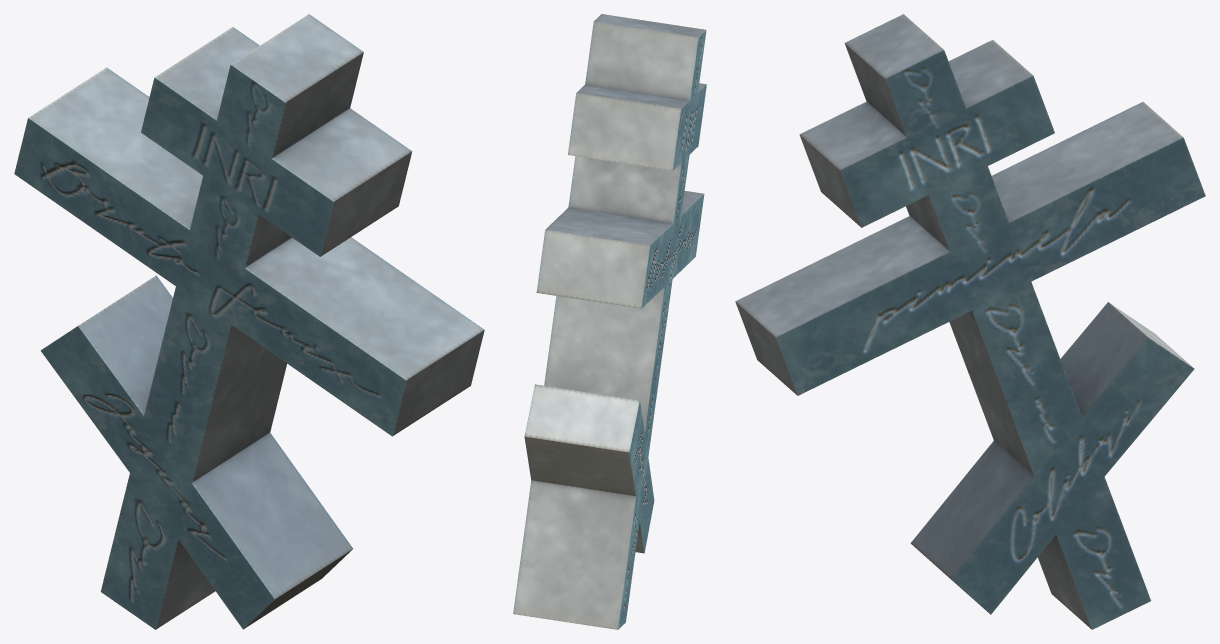
3 views of the same model, side by side, from view 1: azimuth 30°, elevation 25°; view 2: azimuth 150°, elevation 25°; view 3: azimuth 270°, elevation 25° (orthographic). The views are drawn at different scales.
Parts seen in each view (by area): view 1: Cruz_Orto_Cube.011; view 2: Cruz_Orto_Cube.011; view 3: Cruz_Orto_Cube.011.
Part boxes in pixels (x1,y1,x2,y2): Cruz_Orto_Cube.011: [14, 14, 484, 629]; Cruz_Orto_Cube.011: [513, 14, 706, 629]; Cruz_Orto_Cube.011: [735, 14, 1205, 629].
Size of the model in its own units: 1.15 by 2.69 by 1.96.
